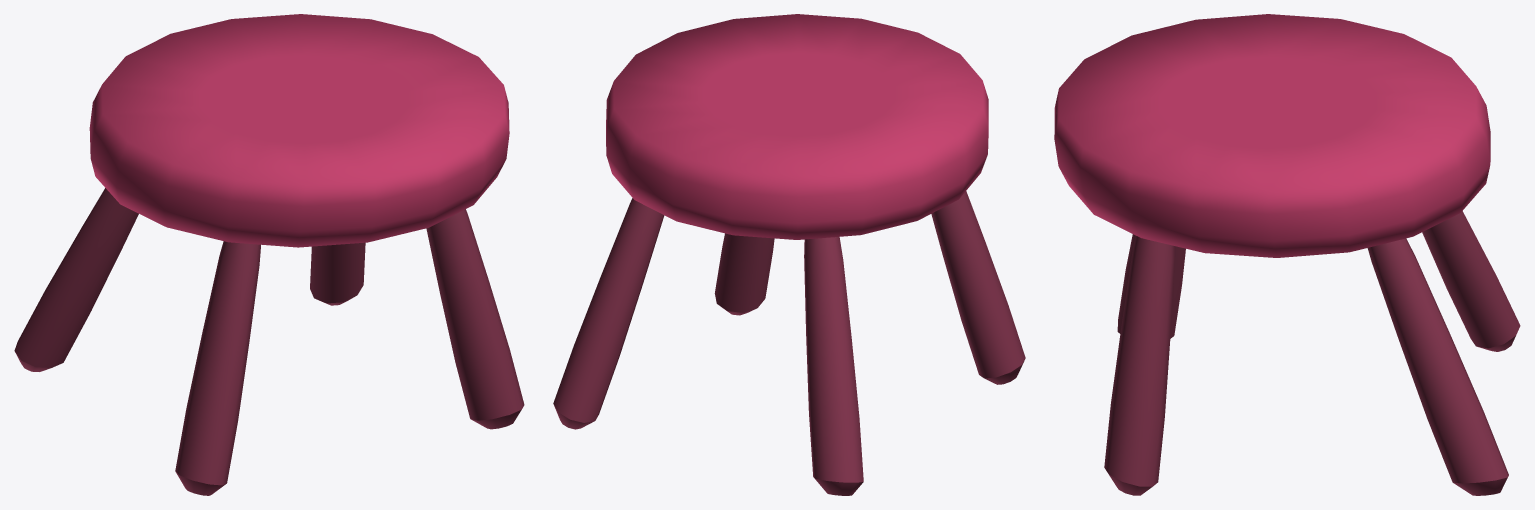
Rendered from kidschair_pink.FBX.
The picture shows the model from 3 angles, left to right: view 1: azimuth 30°, elevation 25°; view 2: azimuth 150°, elevation 25°; view 3: azimuth 270°, elevation 25°; orthographic projection. The views are drawn at different scales.
Parts seen in each view (by area): view 1: Object002; view 2: Object002; view 3: Object002.
Part boxes in pixels (x1,y1,x2,y2): Object002: (14,14,524,495); Object002: (553,14,1025,495); Object002: (1054,14,1520,495).
Bounding box in the file's own units: 16.16 × 13.27 × 17.28.
